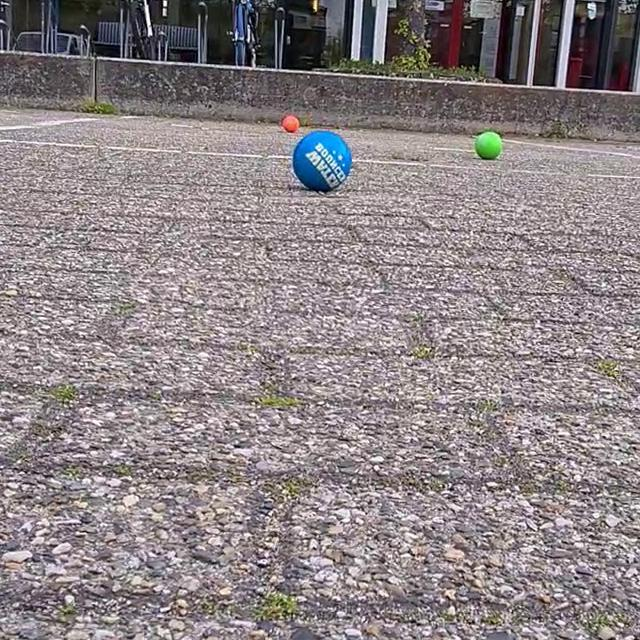ball: (472, 125, 506, 164), (282, 110, 302, 136)
